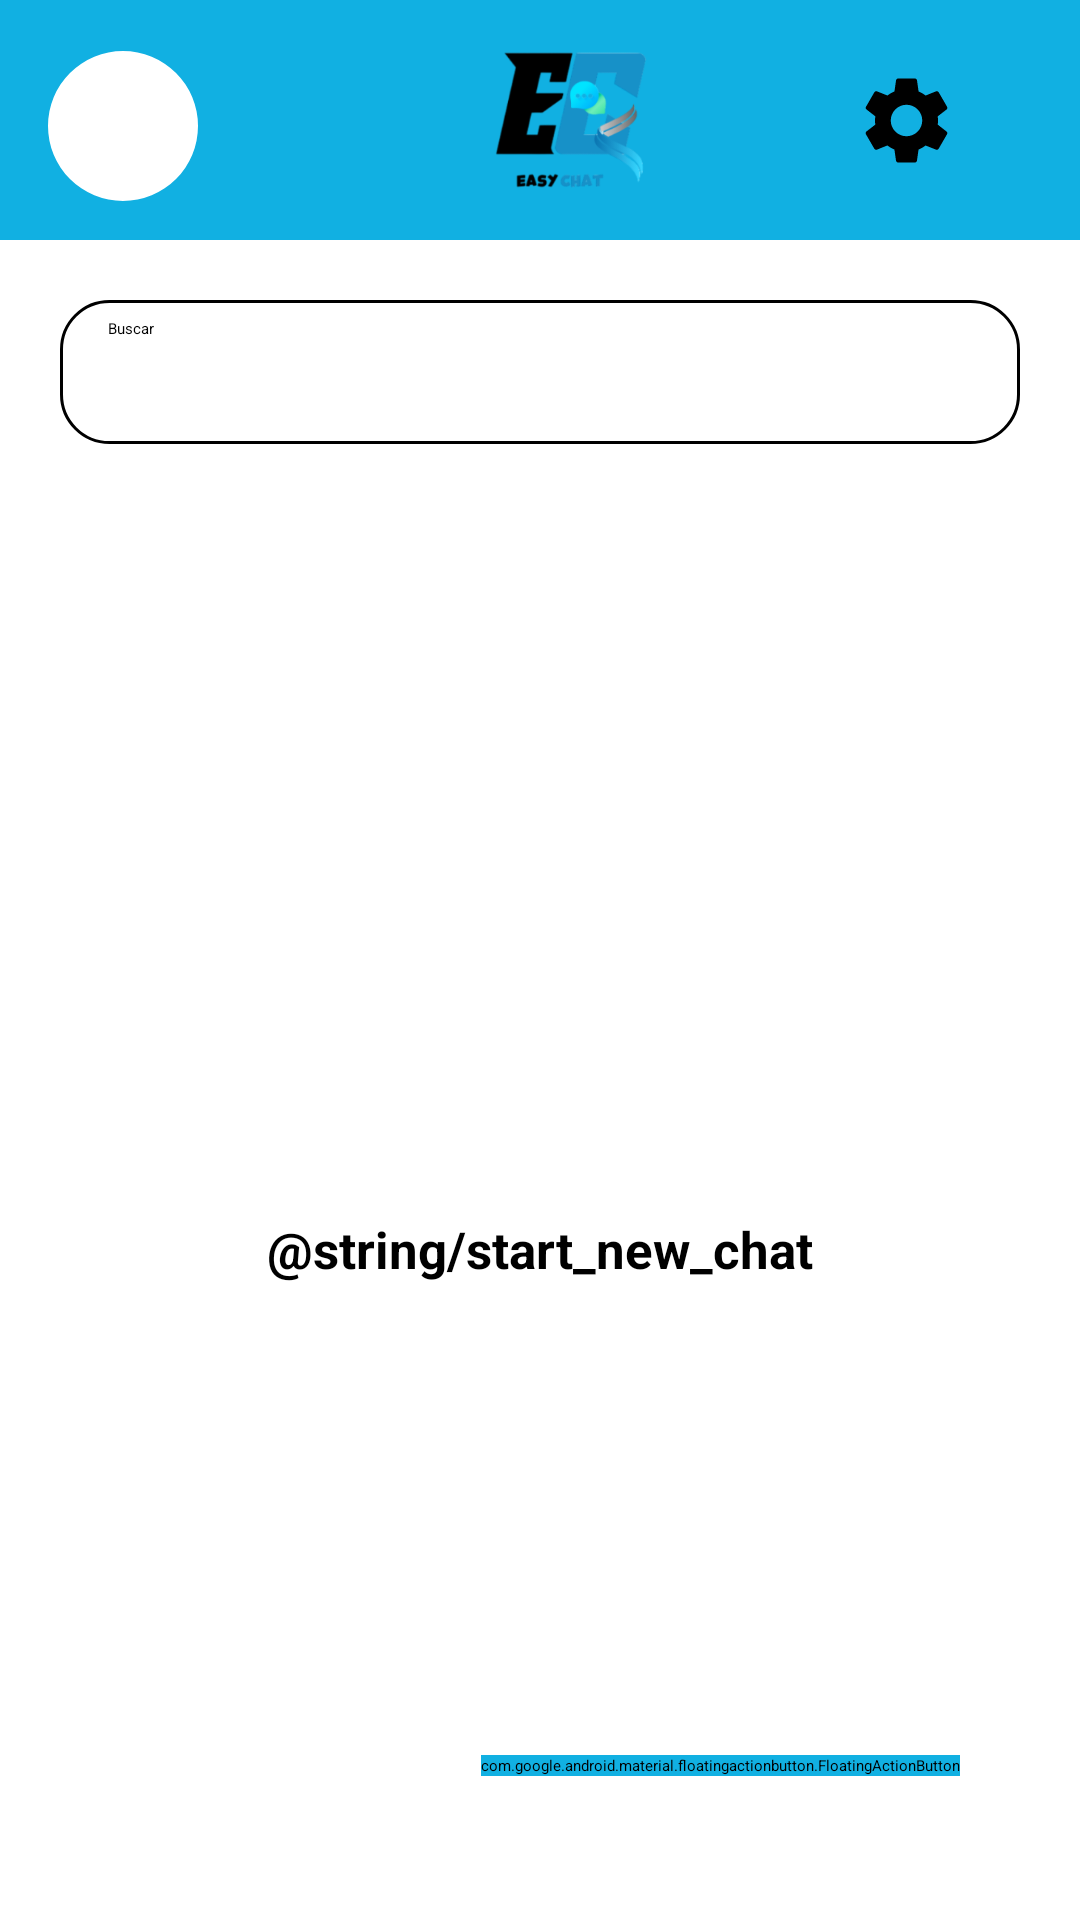

Icon bounding boxes for this 1080 x 1920 phone screenshot, format (x1, y1, x2, y2):
settings: (865, 78, 948, 163)
